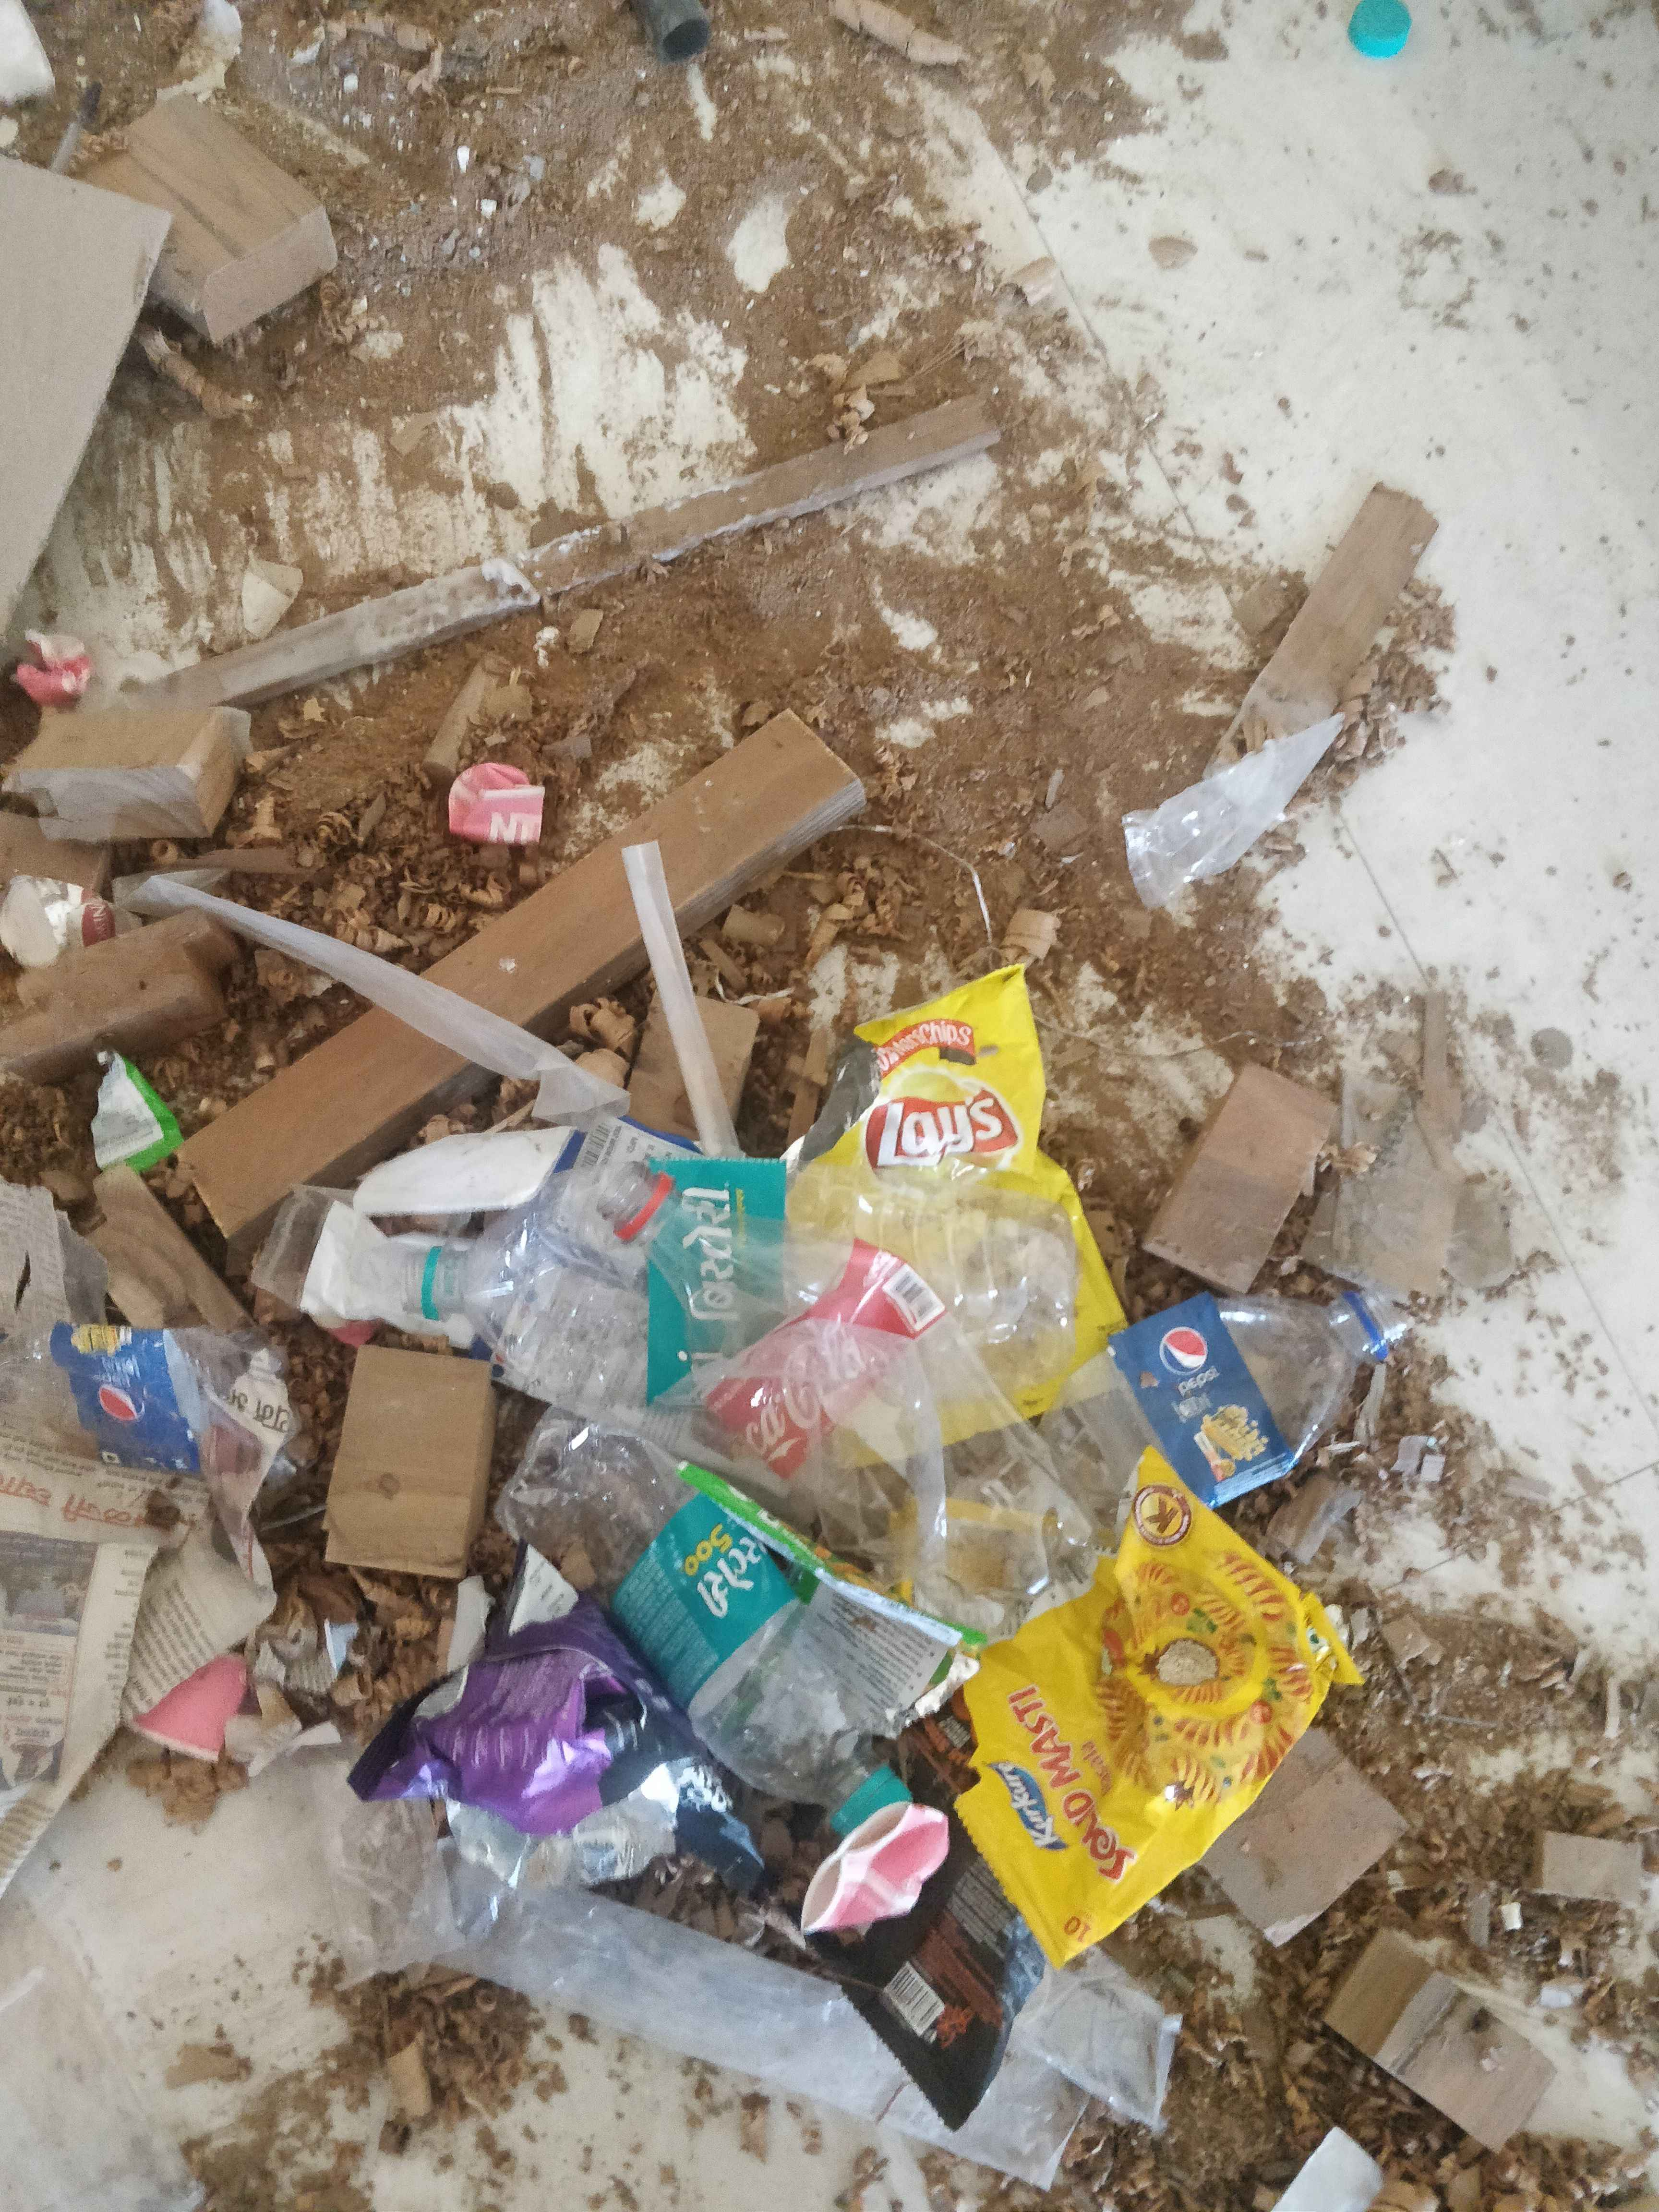Bisleri: (666, 1151, 765, 1338), (681, 1515, 765, 1649)
Coca-Cola: (755, 1289, 880, 1474)
Lays: (840, 1069, 1035, 1211)
kurkure: (983, 1742, 1084, 1869)
pepsi: (71, 1310, 199, 1468), (1124, 1306, 1255, 1413)
tooyumm: (652, 1742, 755, 1834)
